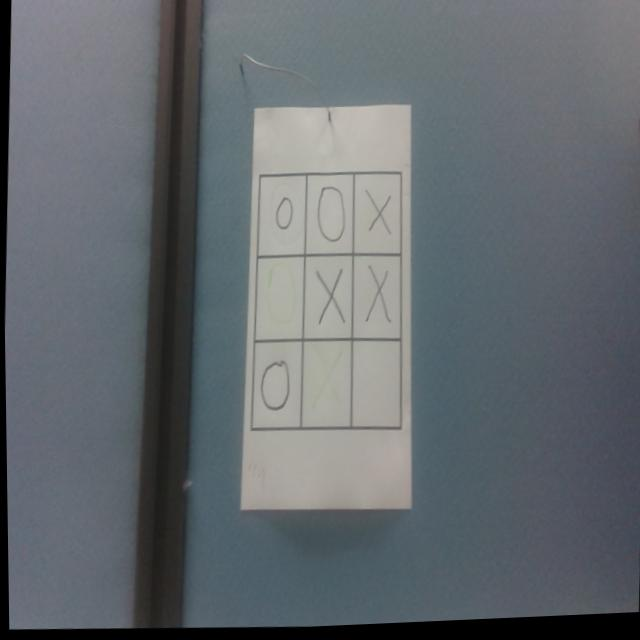null: (350, 341, 401, 432)
o: (262, 261, 298, 327), (313, 186, 347, 246), (257, 362, 290, 414), (273, 196, 293, 234)
table: (246, 170, 406, 443)
x: (307, 349, 341, 417), (313, 270, 346, 330), (361, 267, 394, 327), (362, 191, 395, 240)
